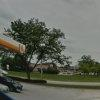Tree: (12, 12, 58, 73)
